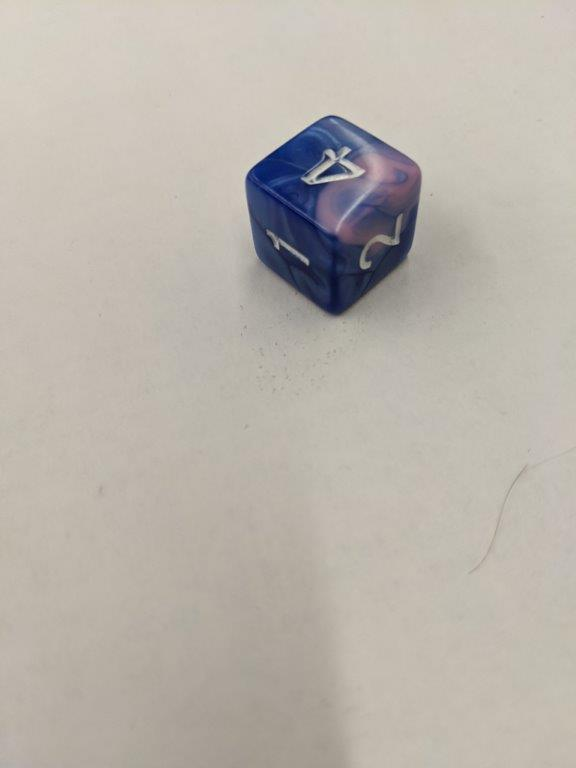d6-4: (247, 114, 423, 319)
